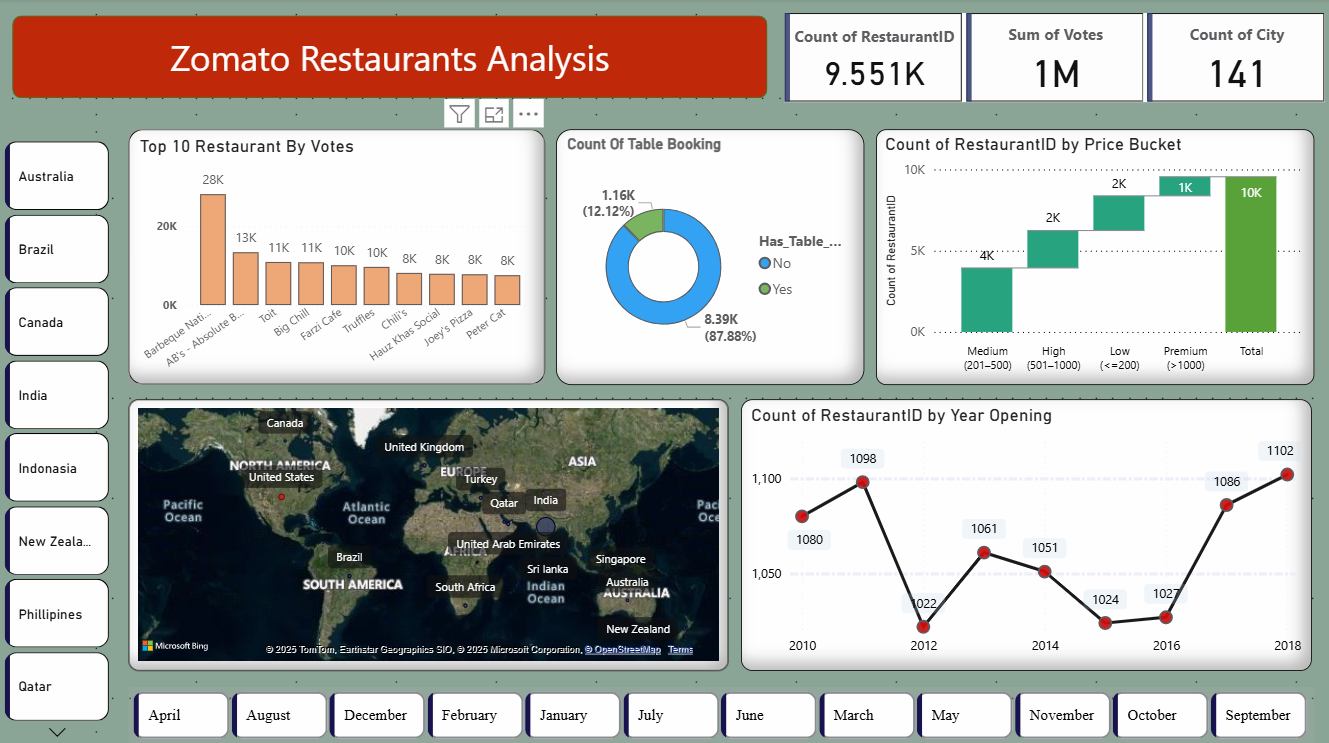

What the dashboard file says about the page in this screenshot:
{"tool":"powerbi","page":{"name":"DASHBOARD","canvas":[1280,720],"ordinal":6},"visuals":[{"type":"donutChart","title":"Count Of Table Booking","fields":{"Category":["Main.Has_Table_booking"],"Y":["CountNonNull(Main.Has_Table_booking)"]},"box":[538,126,295.9,245.8],"z":0},{"type":"waterfallChart","fields":{"Category":["Main.Price Bucket"],"Y":["CountNonNull(Main.RestaurantID)"]},"box":[845,126,420.7,245.8],"z":1000},{"type":"map","fields":{"Category":["Main.Country_Name"],"Size":["CountNonNull(Main.RestaurantID)"]},"box":[127.2,385.2,576,260.5],"z":2000},{"type":"lineChart","fields":{"Category":["Main.Year Opening"],"Y":["CountNonNull(Main.RestaurantID)"]},"box":[715.4,385.2,547.8,260.5],"z":3000},{"type":"advancedSlicerVisual","fields":{"Values":["Main.Month Name"]},"box":[127.2,661.6,1138.5,55],"z":4000},{"type":"advancedSlicerVisual","fields":{"Values":["Main.Country_Name"]},"box":[3.7,112.5,110.1,607.7],"z":5000},{"type":"cardVisual","fields":{"Data":["CountNonNull(Main.RestaurantID)","Sum(Main.Votes)","Count(Main.City)"]},"box":[752,9.8,528.3,95.4],"z":6000},{"type":"shape","box":[15.9,17.1,725.1,79.5],"z":7000},{"type":"clusteredColumnChart","title":"Top 10 Restaurant By Votes","fields":{"Category":["Main.RestaurantName"],"Y":["Sum(Main.Votes)"]},"box":[127.2,126,399.9,244.6],"z":8000}]}

Visuals, with their boxes in screenshot pixels (x1, y1, x2, y2), scaled from the page's 1280x720 canvas onto the 1329x743 screenshot:
"Count Of Table Booking" donutChart: pyautogui.locateOnScreen(559, 130, 866, 384)
waterfallChart - Main.Price Bucket x CountNonNull(Main.RestaurantID): pyautogui.locateOnScreen(877, 130, 1314, 384)
map - Main.Country_Name x CountNonNull(Main.RestaurantID): pyautogui.locateOnScreen(132, 398, 730, 666)
lineChart - Main.Year Opening x CountNonNull(Main.RestaurantID): pyautogui.locateOnScreen(743, 398, 1312, 666)
advancedSlicerVisual - Main.Month Name: pyautogui.locateOnScreen(132, 683, 1314, 739)
advancedSlicerVisual - Main.Country_Name: pyautogui.locateOnScreen(4, 116, 118, 742)
cardVisual - CountNonNull(Main.RestaurantID) x Sum(Main.Votes): pyautogui.locateOnScreen(781, 10, 1328, 109)
shape: pyautogui.locateOnScreen(17, 18, 769, 100)
"Top 10 Restaurant By Votes" clusteredColumnChart: pyautogui.locateOnScreen(132, 130, 547, 382)
